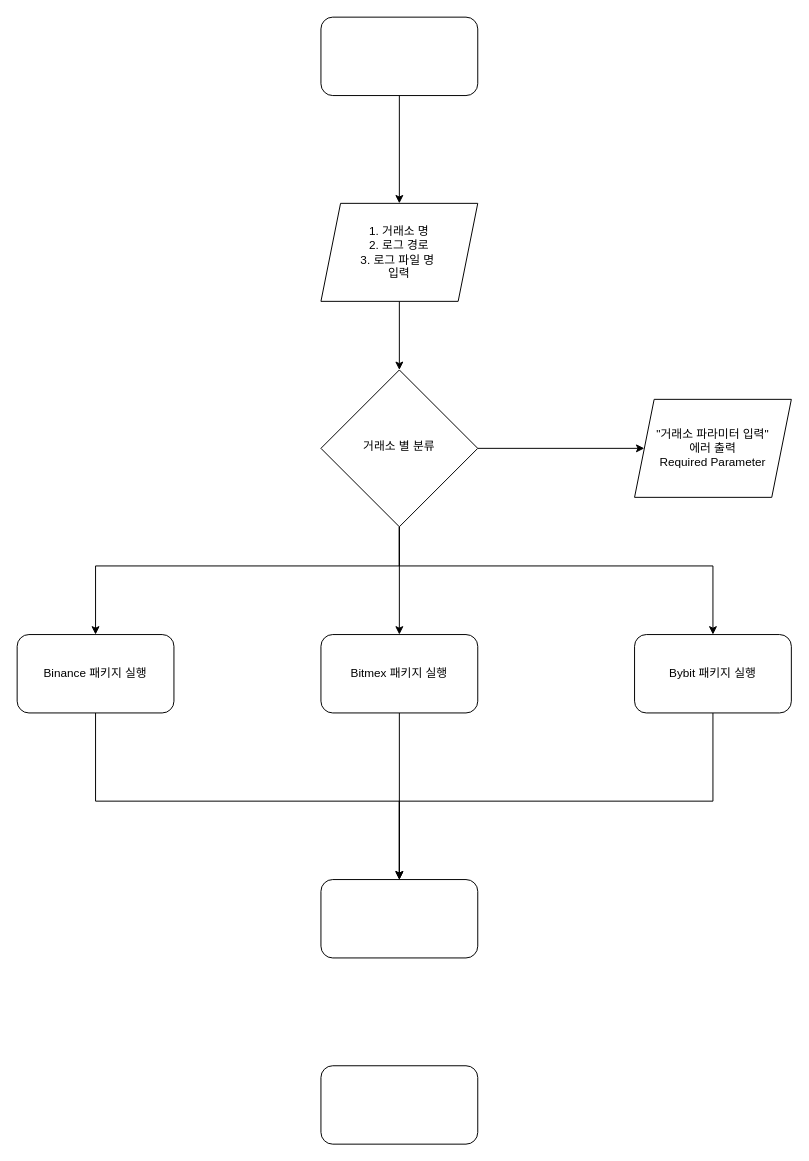
Some shapes in this 809 by 1161 pixel diagram are drawn without their labels. The box of each missing label's shape, as (x1, y1, x2, y2) in pixels:
ELT 패키지 실행: (320, 879, 478, 958)
main.py 실행: (320, 16, 478, 96)
toFrame 실행 : 데이터프레임 형태로 변환: (320, 1065, 478, 1144)
